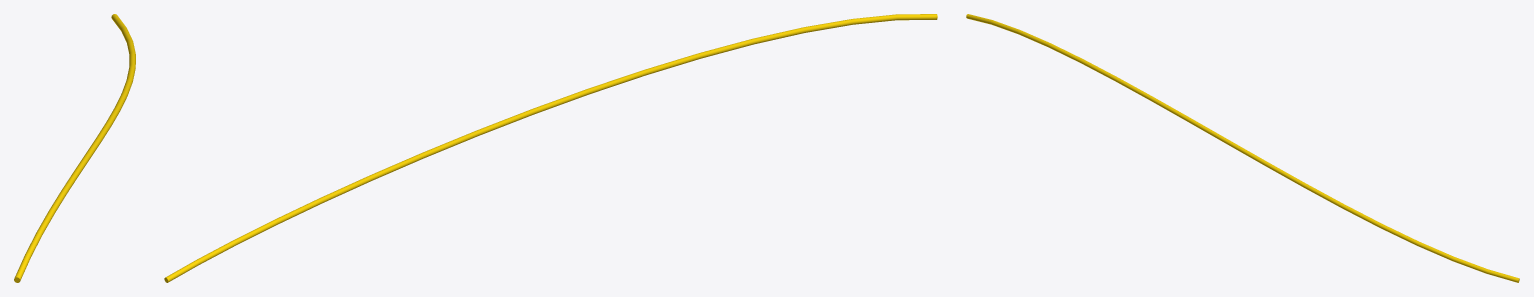
The model's file is Event_420094457_track_52.fbx.
3 views of the same model, side by side, from view 1: azimuth 90°, elevation 25°; view 2: azimuth 210°, elevation 25°; view 3: azimuth 330°, elevation 25° (orthographic). The views are drawn at different scales.
Parts seen in each view (by area): view 1: Model; view 2: Model; view 3: Model.
Boxes of the visible parts, x1,y1,x2,y2 form: Model: (14,14,135,282); Model: (164,14,937,282); Model: (966,14,1519,282).
Size of the model in its own units: 5.71 by 0.9681 by 0.744.
